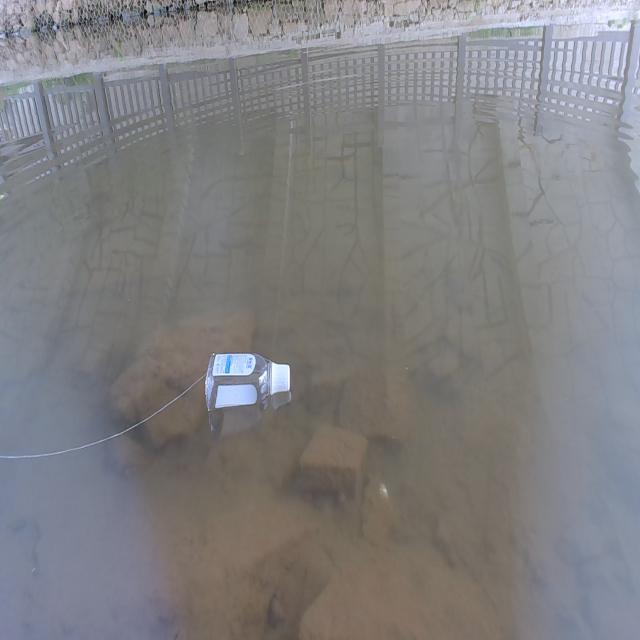Bottle: (204, 346, 291, 413)
